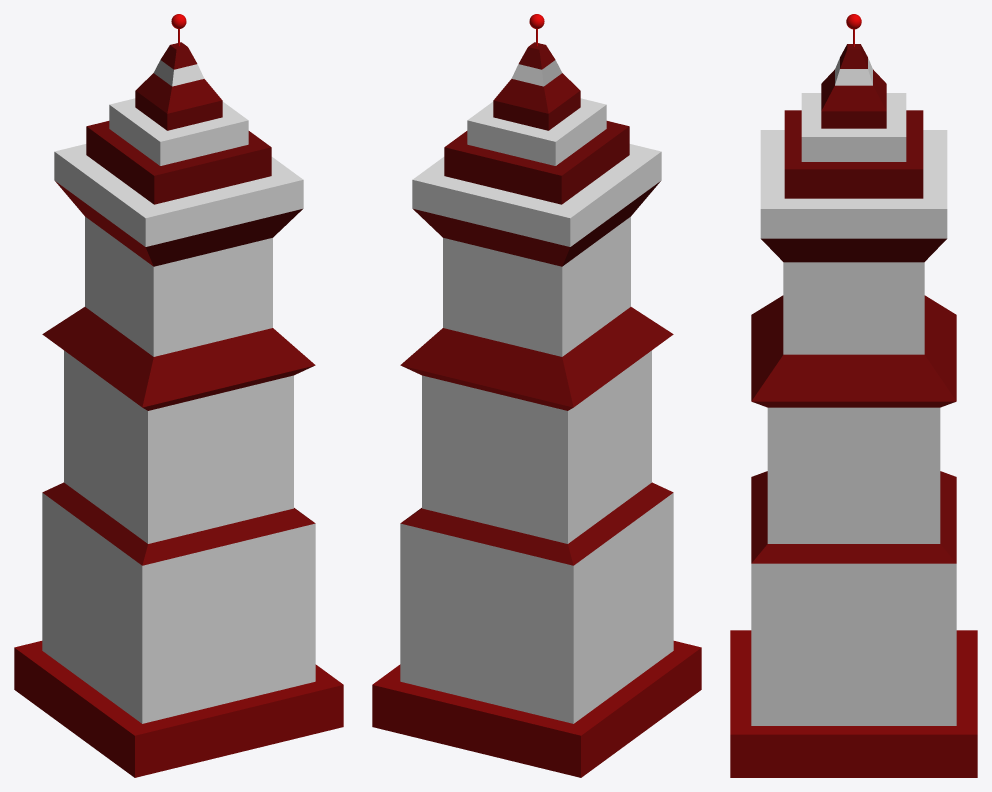
File: tower.fbx
The picture shows the model from 3 angles, left to right: view 1: azimuth 30°, elevation 25°; view 2: azimuth 150°, elevation 25°; view 3: azimuth 270°, elevation 25°; orthographic projection. The views are drawn at different scales.
Parts seen in each view (by area): view 1: tower; view 2: tower; view 3: tower.
Boxes of the visible parts, box(x1,y1,x2,y2) form: tower: box(14, 14, 343, 777); tower: box(372, 14, 701, 777); tower: box(730, 14, 977, 777).
Bounding box in the file's own units: 15.14 × 48.03 × 15.14.
